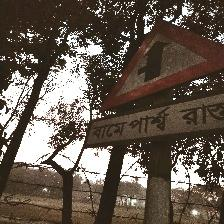Side-road-left: (87, 19, 224, 150)
